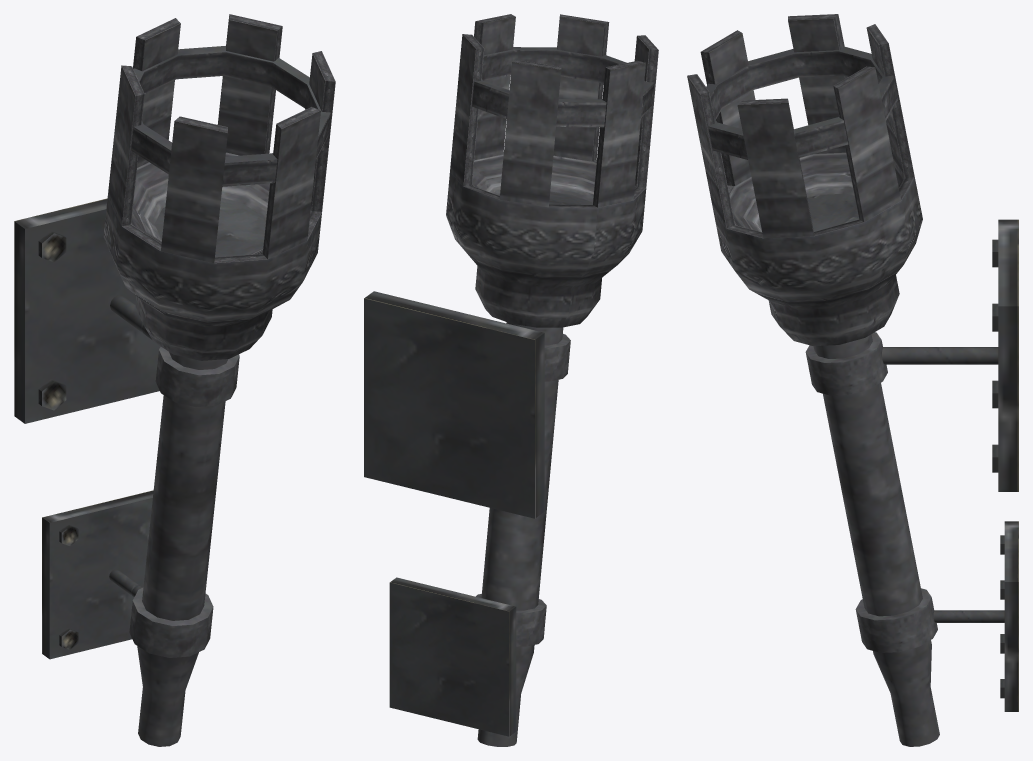
Rendered from torch-01.fbx.
3 views of the same model, side by side, from view 1: azimuth 30°, elevation 25°; view 2: azimuth 150°, elevation 25°; view 3: azimuth 270°, elevation 25° (orthographic). The views are drawn at different scales.
Visible parts, largest first — view 1: Cylinder.082; view 2: Cylinder.082; view 3: Cylinder.082.
Boxes of the visible parts, x1,y1,x2,y2 form: Cylinder.082: [14, 14, 335, 746]; Cylinder.082: [364, 14, 658, 746]; Cylinder.082: [687, 14, 1018, 746].
Bounding box in the file's own units: 0.24 × 0.9018 × 0.3888.
